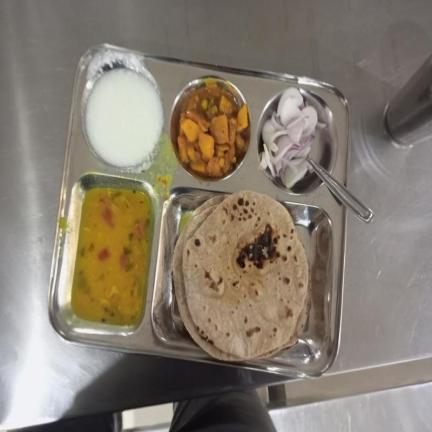Aalu Ki Sabji: (177, 84, 249, 174)
Chana Dal: (70, 186, 152, 327)
Dahi: (86, 69, 164, 166)
Plate: (47, 44, 351, 377)
Roti: (172, 190, 312, 363)
Salad: (258, 84, 327, 189)
